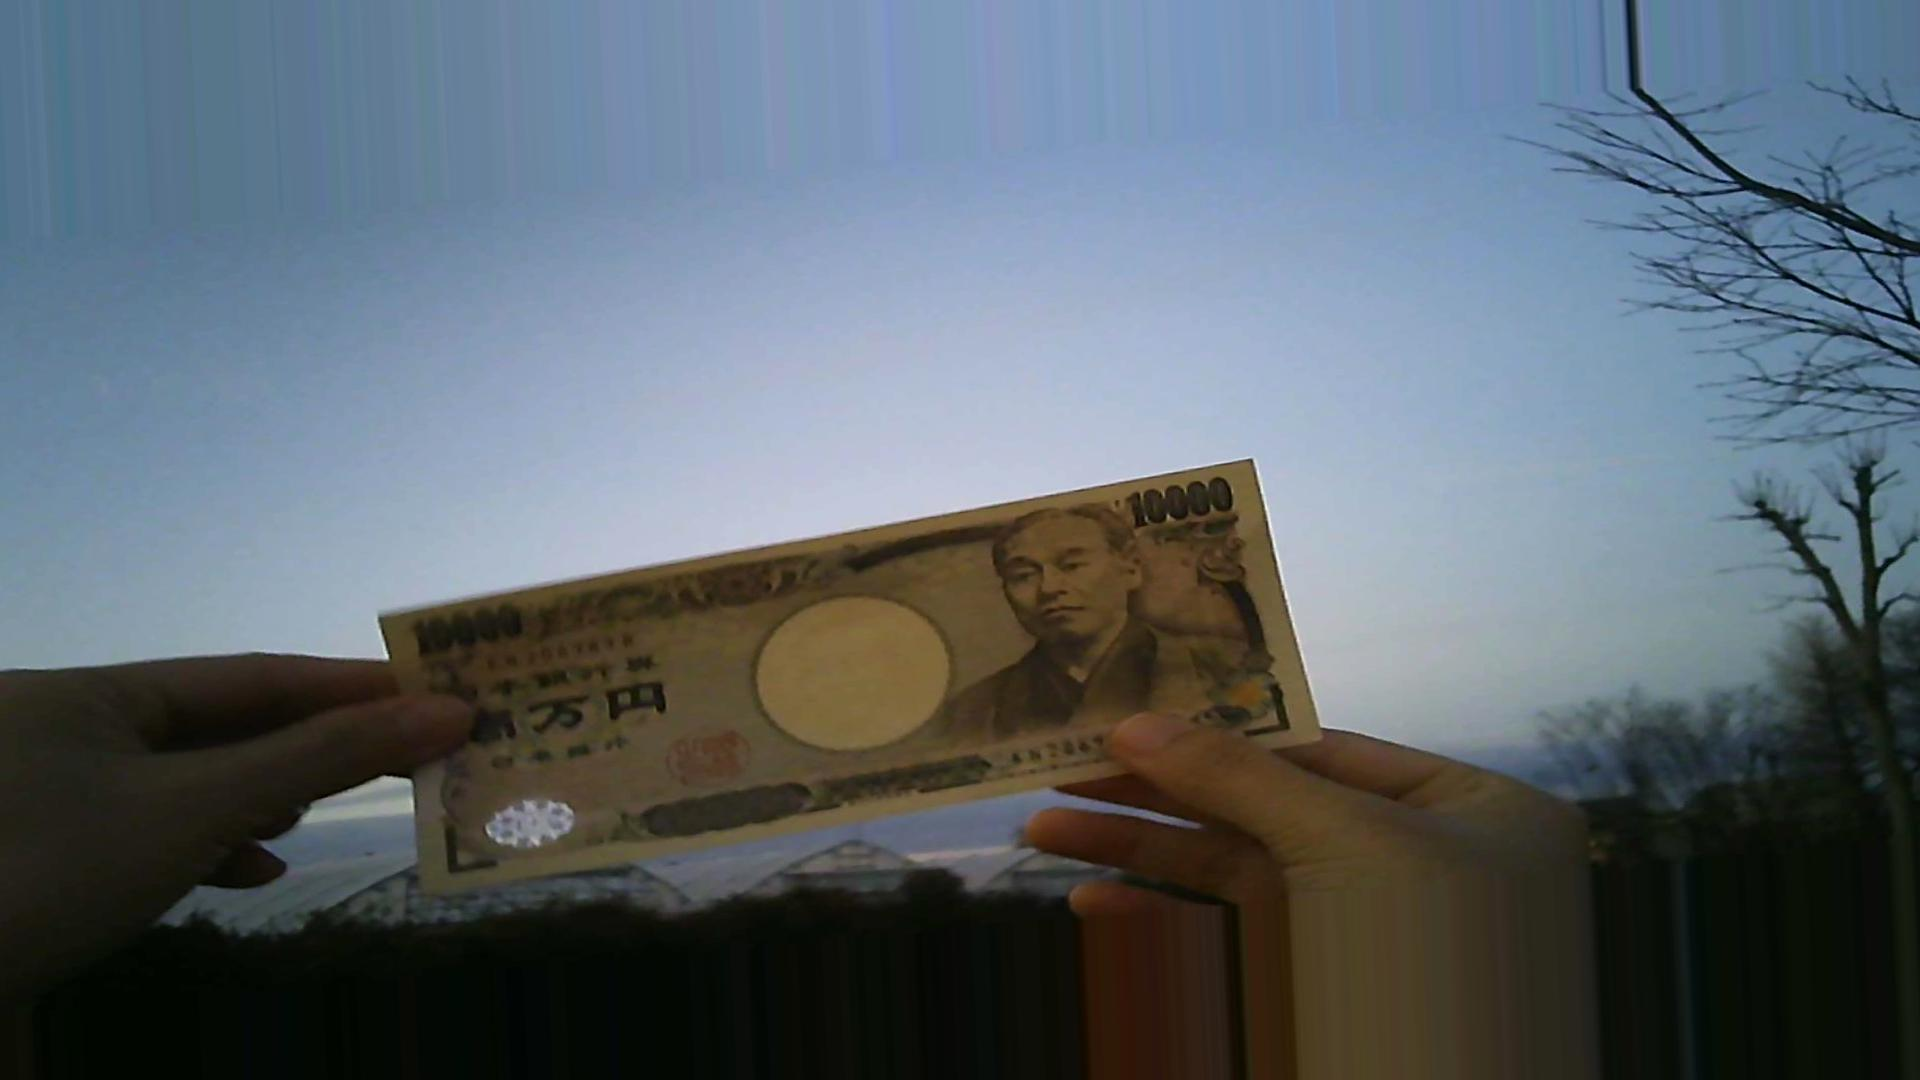10,000 Yen: (328, 444, 1321, 865)
